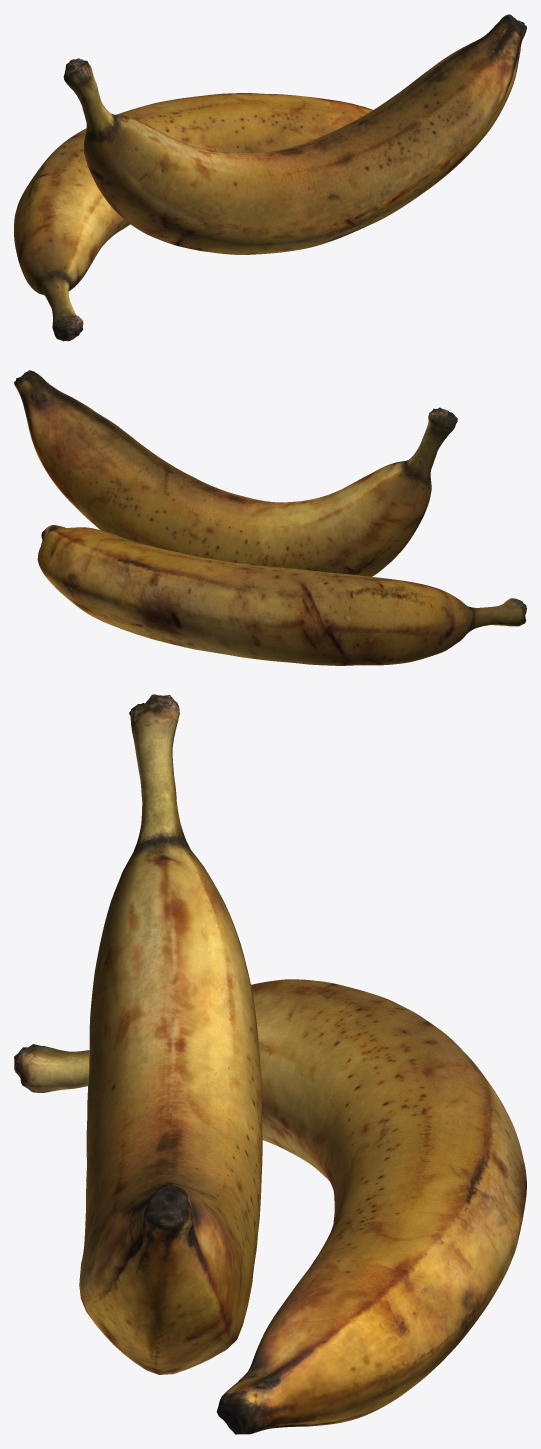
Rendered from food_banana.obj.
The picture shows the model from 3 angles, top to bottom: view 1: azimuth 30°, elevation 25°; view 2: azimuth 150°, elevation 25°; view 3: azimuth 270°, elevation 25°; orthographic projection. The views are drawn at different scales.
Parts seen in each view (by area): view 1: Banana, Banana001; view 2: Banana001, Banana; view 3: Banana001, Banana.
Part boxes in pixels (x1=…): Banana: x1=63, y1=14, x2=526, y2=254; Banana001: x1=14, y1=93, x2=372, y2=341; Banana001: x1=37, y1=525, x2=526, y2=665; Banana: x1=14, y1=370, x2=457, y2=576; Banana001: x1=14, y1=979, x2=526, y2=1434; Banana: x1=79, y1=694, x2=262, y2=1374.
Size of the model in its own units: 276 by 127 by 136.
Materials: 1 (1 with a texture image).
